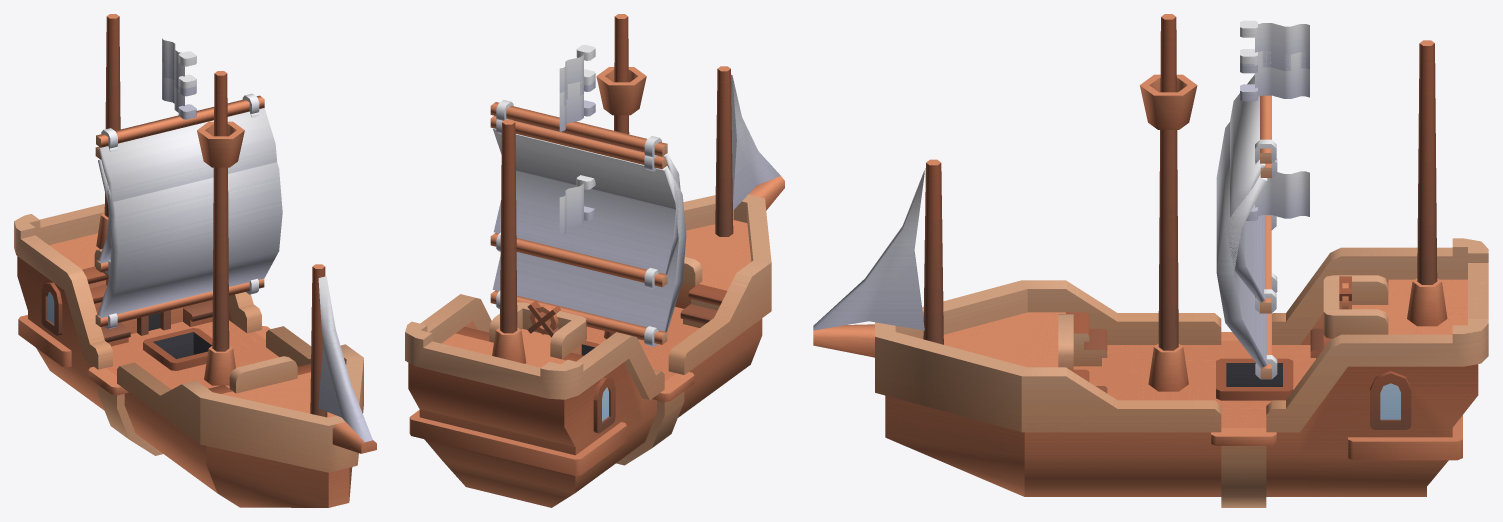
File: ship-large.glb
3 views of the same model, side by side, from view 1: azimuth 30°, elevation 25°; view 2: azimuth 150°, elevation 25°; view 3: azimuth 270°, elevation 25° (orthographic). The views are drawn at different scales.
Visible parts, largest first — view 1: ship-large, ship-large.004, ship-large.005, ship-large.002, ship-large.003; view 2: ship-large, ship-large.004, ship-large.005, ship-large.001, ship-large.003, ship-large.002; view 3: ship-large, ship-large.005, ship-large.004, ship-large.002, ship-large.003, ship-large.001.
Part boxes in pixels (left/top/right/bottom): ship-large: left=14, top=14, right=376, bottom=507; ship-large.004: left=95, top=112, right=282, bottom=329; ship-large.005: left=96, top=93, right=276, bottom=274; ship-large.002: left=162, top=38, right=196, bottom=96; ship-large.003: left=162, top=62, right=196, bottom=119; ship-large: left=405, top=14, right=784, bottom=507; ship-large.004: left=490, top=116, right=686, bottom=346; ship-large.005: left=490, top=100, right=680, bottom=289; ship-large.001: left=559, top=175, right=595, bottom=235; ship-large.003: left=559, top=69, right=595, bottom=131; ship-large.002: left=559, top=44, right=595, bottom=105; ship-large: left=813, top=14, right=1488, bottom=507; ship-large.005: left=1227, top=74, right=1276, bottom=313; ship-large.004: left=1216, top=96, right=1277, bottom=379; ship-large.002: left=1240, top=20, right=1309, bottom=73; ship-large.003: left=1240, top=49, right=1309, bottom=101; ship-large.001: left=1246, top=171, right=1309, bottom=220.
Bounding box in the file's own units: 16.32 × 33.88 × 44.54.
1 material, 1 textured.
